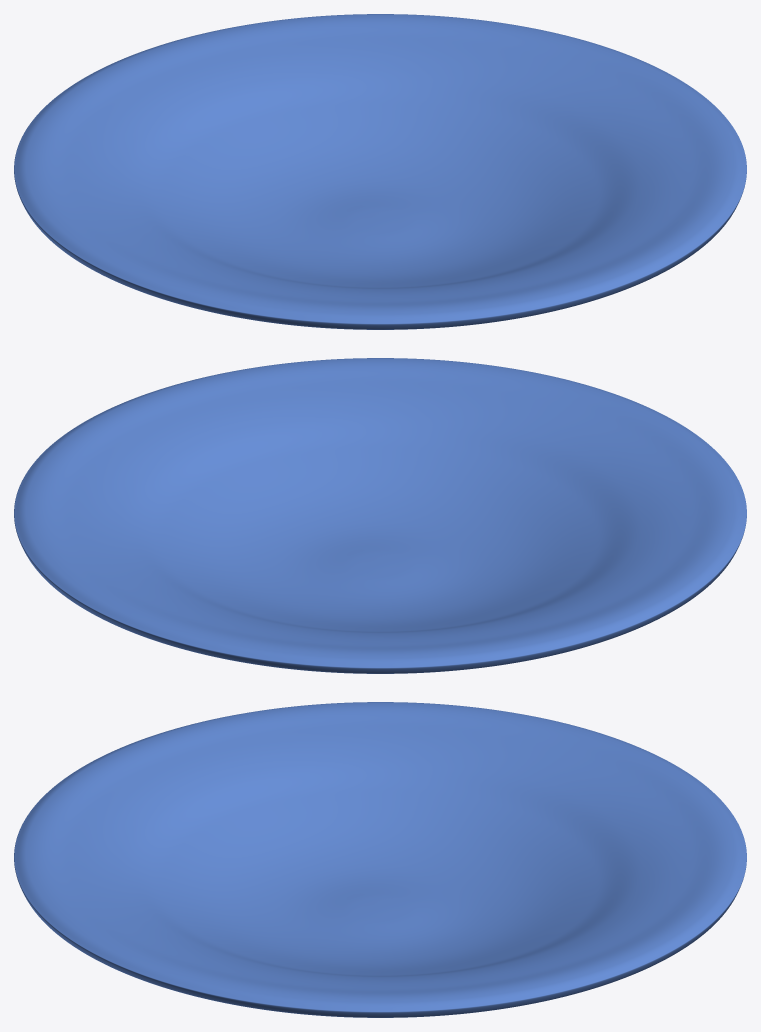
The picture shows the model from 3 angles, top to bottom: view 1: azimuth 30°, elevation 25°; view 2: azimuth 150°, elevation 25°; view 3: azimuth 270°, elevation 25°; orthographic projection.
Parts seen in each view (by area): view 1: Plate; view 2: Plate; view 3: Plate.
Part boxes in pixels (<box>): Plate: <box>14,14,746,329</box>; Plate: <box>14,358,746,673</box>; Plate: <box>14,702,746,1017</box>.
Bounding box in the file's own units: 0.3205 × 0.0323 × 0.3205.
